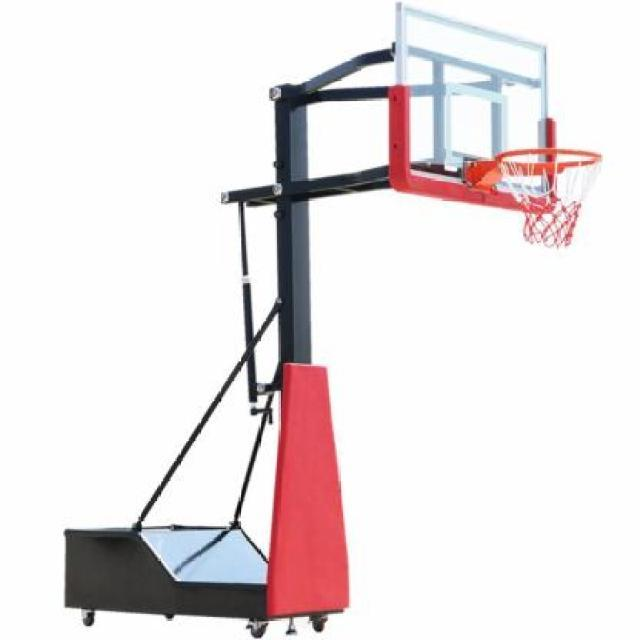rim: (500, 150, 604, 246)
